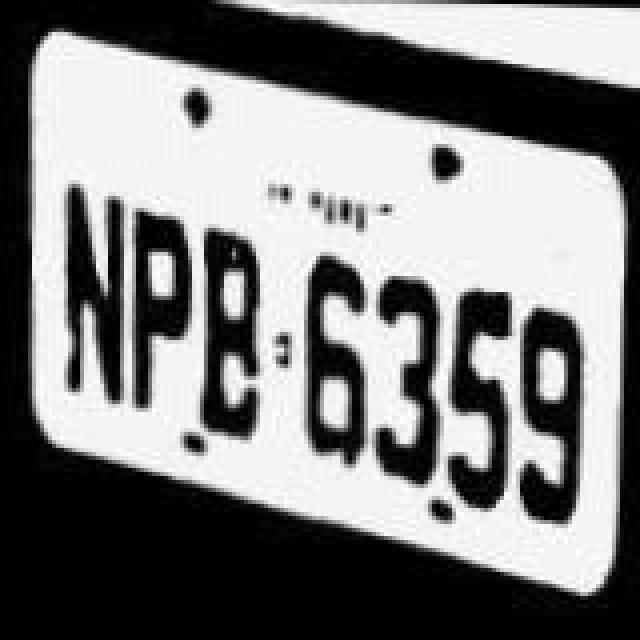3: (360, 252, 444, 492)
5: (436, 276, 520, 516)
6: (286, 246, 374, 486)
9: (504, 284, 588, 524)
B: (188, 206, 276, 438)
N: (66, 276, 150, 556)
P: (116, 170, 196, 434)
